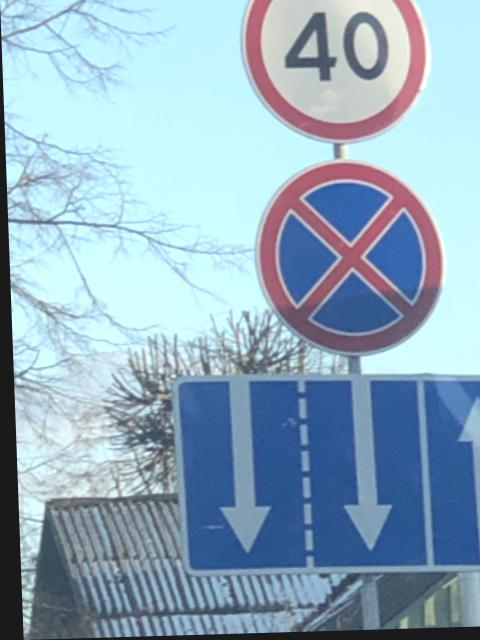limit40: (232, 0, 437, 153)
